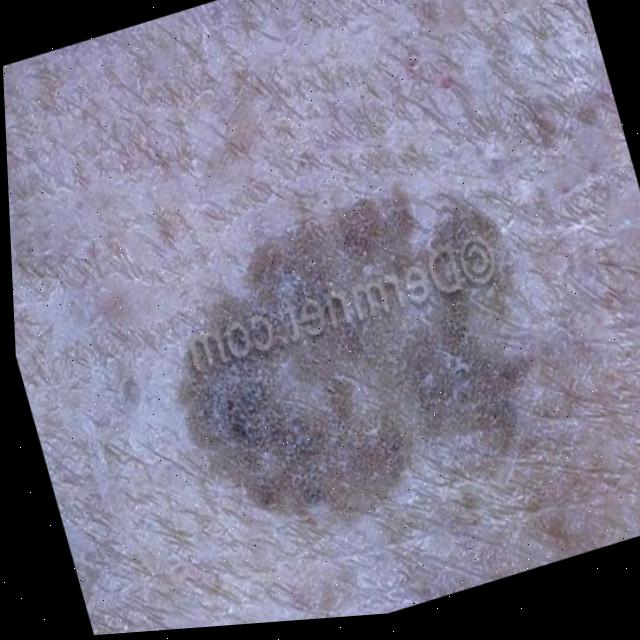Eczema: (138, 188, 489, 521)
